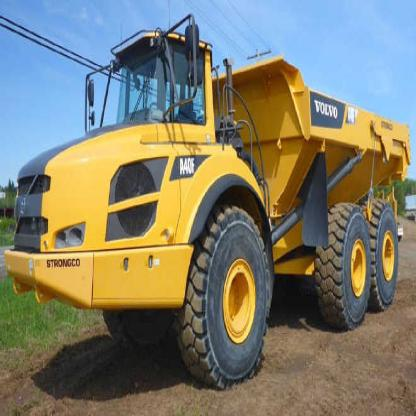dump_truck: (4, 17, 416, 389)
